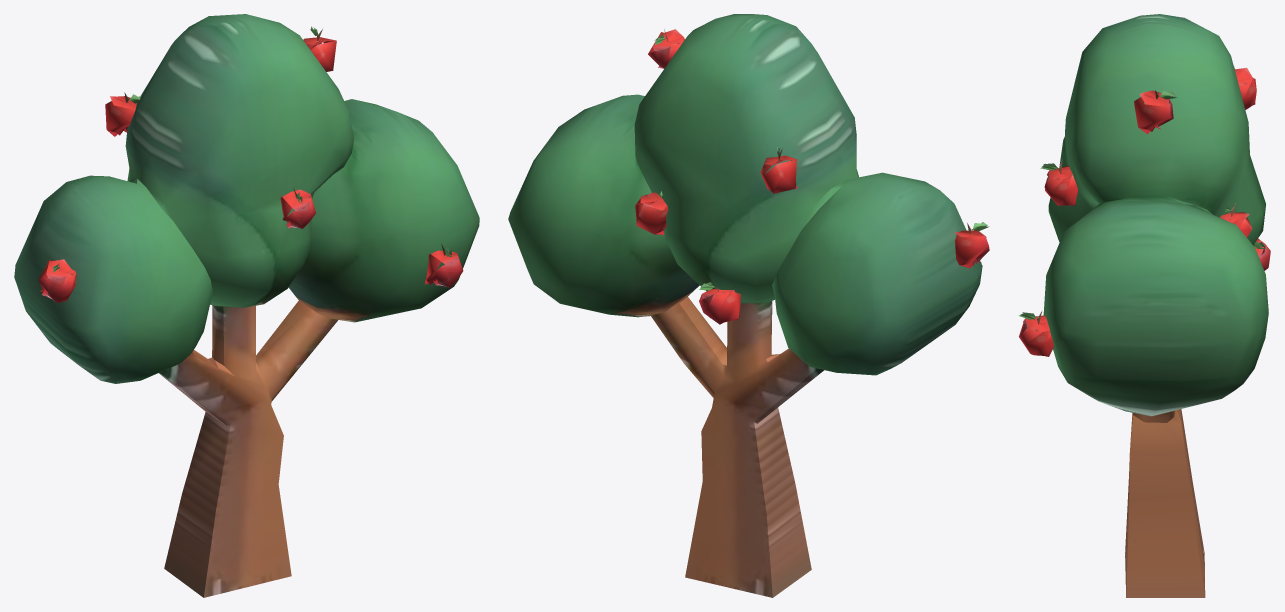
3 views of the same model, side by side, from view 1: azimuth 30°, elevation 25°; view 2: azimuth 150°, elevation 25°; view 3: azimuth 270°, elevation 25° (orthographic).
Parts seen in each view (by area): view 1: Decor_apple_tree_4; view 2: Decor_apple_tree_4; view 3: Decor_apple_tree_4.
Part boxes in pixels (x1,y1,x2,y2): Decor_apple_tree_4: [14, 14, 479, 597]; Decor_apple_tree_4: [508, 14, 989, 597]; Decor_apple_tree_4: [1018, 14, 1270, 597].
Bounding box in the file's own units: 3.73 × 4.58 × 1.88.
Materials: 2 (2 with a texture image).
